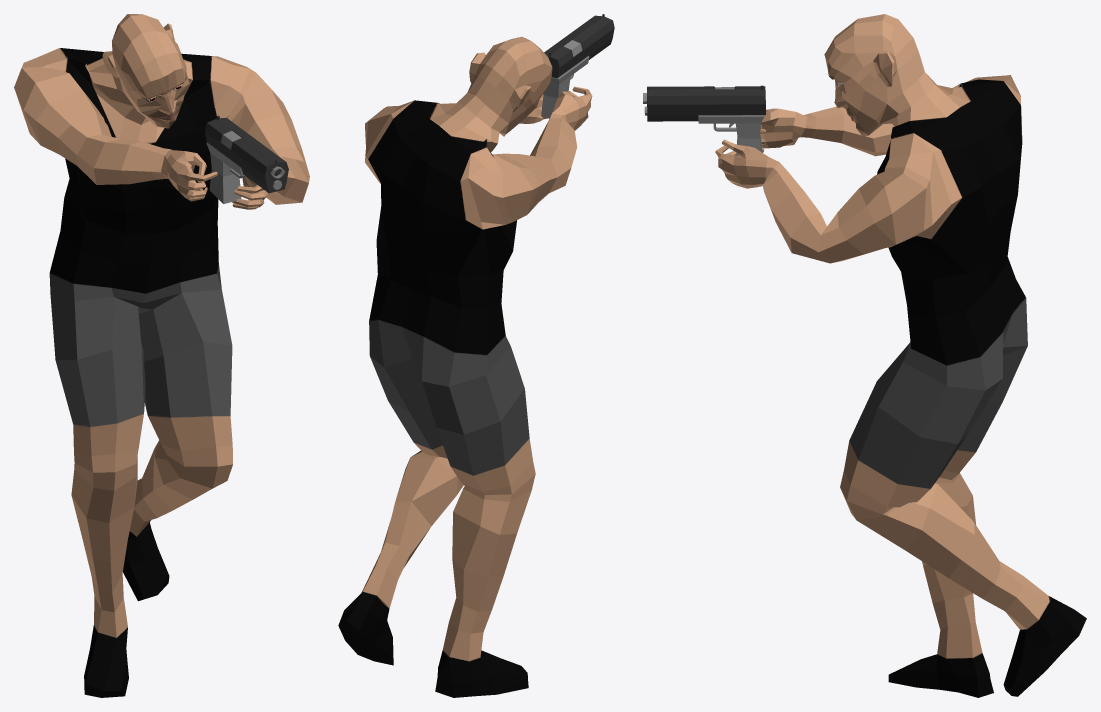
Rendered from PlayerWalk(22).obj.
3 renders of one model, left to right at view 1: azimuth 30°, elevation 25°; view 2: azimuth 150°, elevation 25°; view 3: azimuth 270°, elevation 25°, orthographic. The views are drawn at different scales.
Visible parts, largest first — view 1: Plane002, Box003; view 2: Plane002, Box003; view 3: Plane002, Box003.
Boxes of the visible parts, box(x1,y1,x2,y2) form: Plane002: box(14, 14, 309, 697); Box003: box(205, 115, 288, 203); Plane002: box(338, 36, 592, 697); Box003: box(541, 14, 614, 118); Plane002: box(715, 14, 1086, 697); Box003: box(643, 85, 765, 155).
Size of the model in its own units: 572 by 1706 by 1021.
